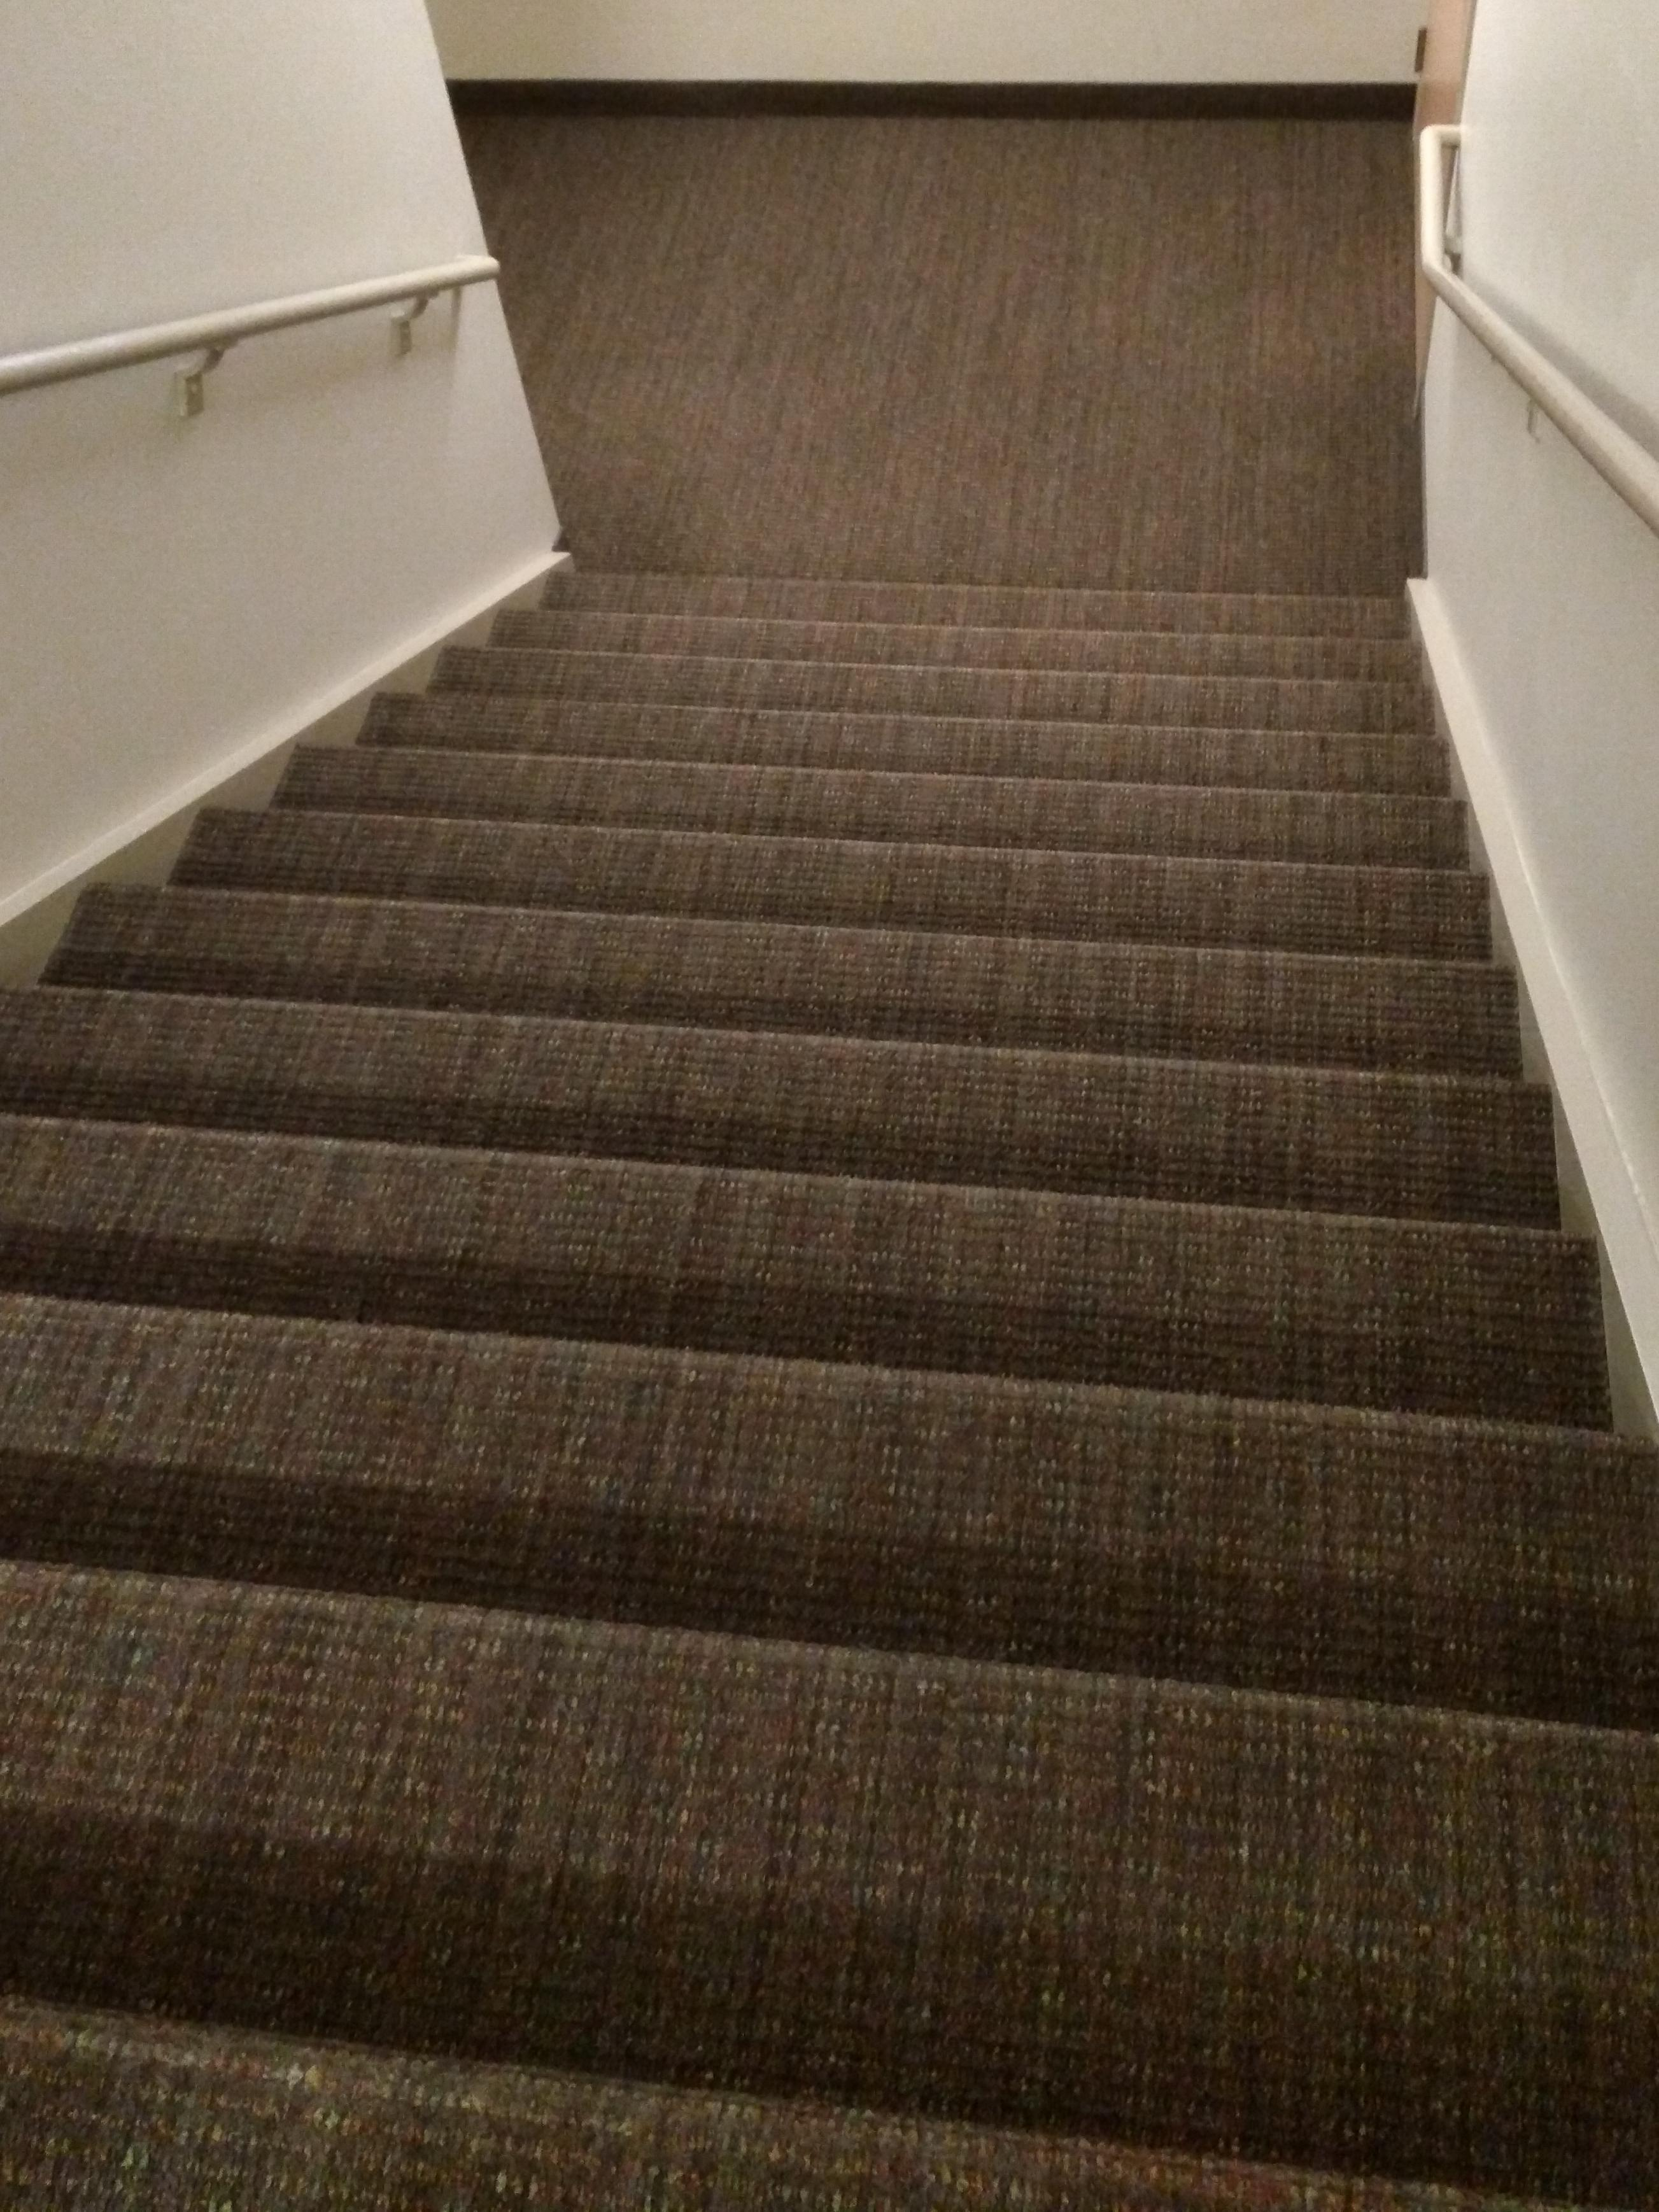stairs_down: (19, 563, 1659, 2212)
